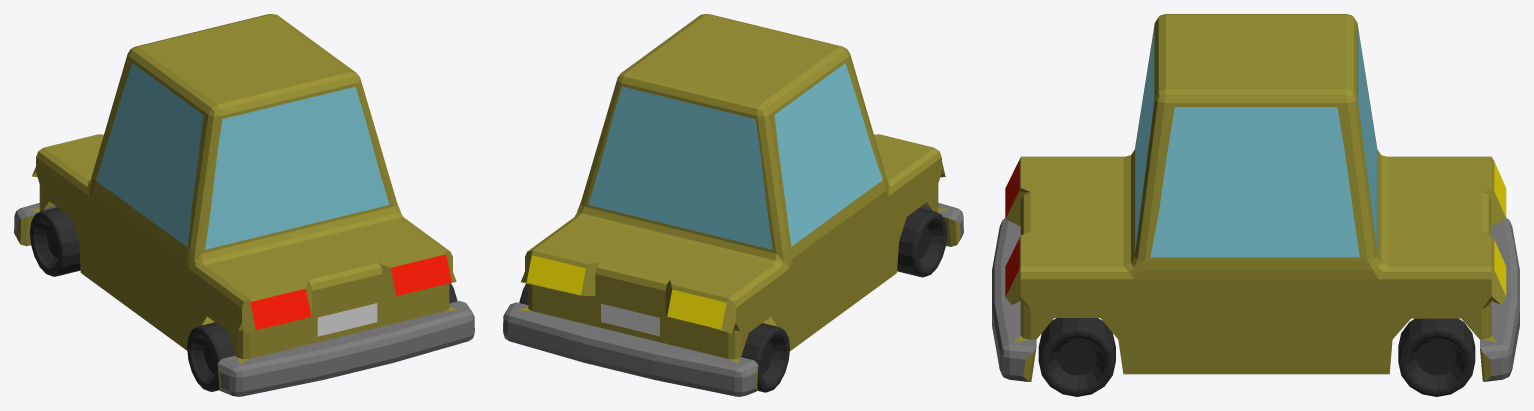
File: TS-car-2.fbx
3 views of the same model, side by side, from view 1: azimuth 30°, elevation 25°; view 2: azimuth 150°, elevation 25°; view 3: azimuth 270°, elevation 25° (orthographic). The views are drawn at different scales.
Visible parts, largest first — view 1: Cube.002; view 2: Cube.002; view 3: Cube.002.
Part boxes in pixels (x1,y1,x2,y2): Cube.002: [14, 14, 474, 396]; Cube.002: [503, 14, 963, 396]; Cube.002: [992, 14, 1519, 396].
Bounding box in the file's own units: 422 × 393 × 673.
